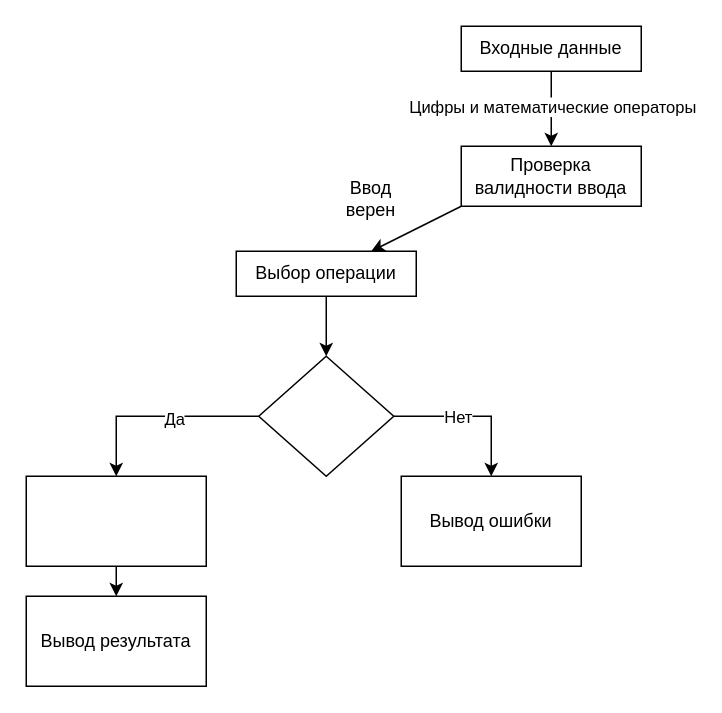
Image size: 722x713. Some labels were removed from this diagram. The shapes that lost their labels are listed below. From the top down, each one's centre as x and y in pixels, then its label:
point (325, 415): Возможна операция?
point (115, 520): Выполнение операции
